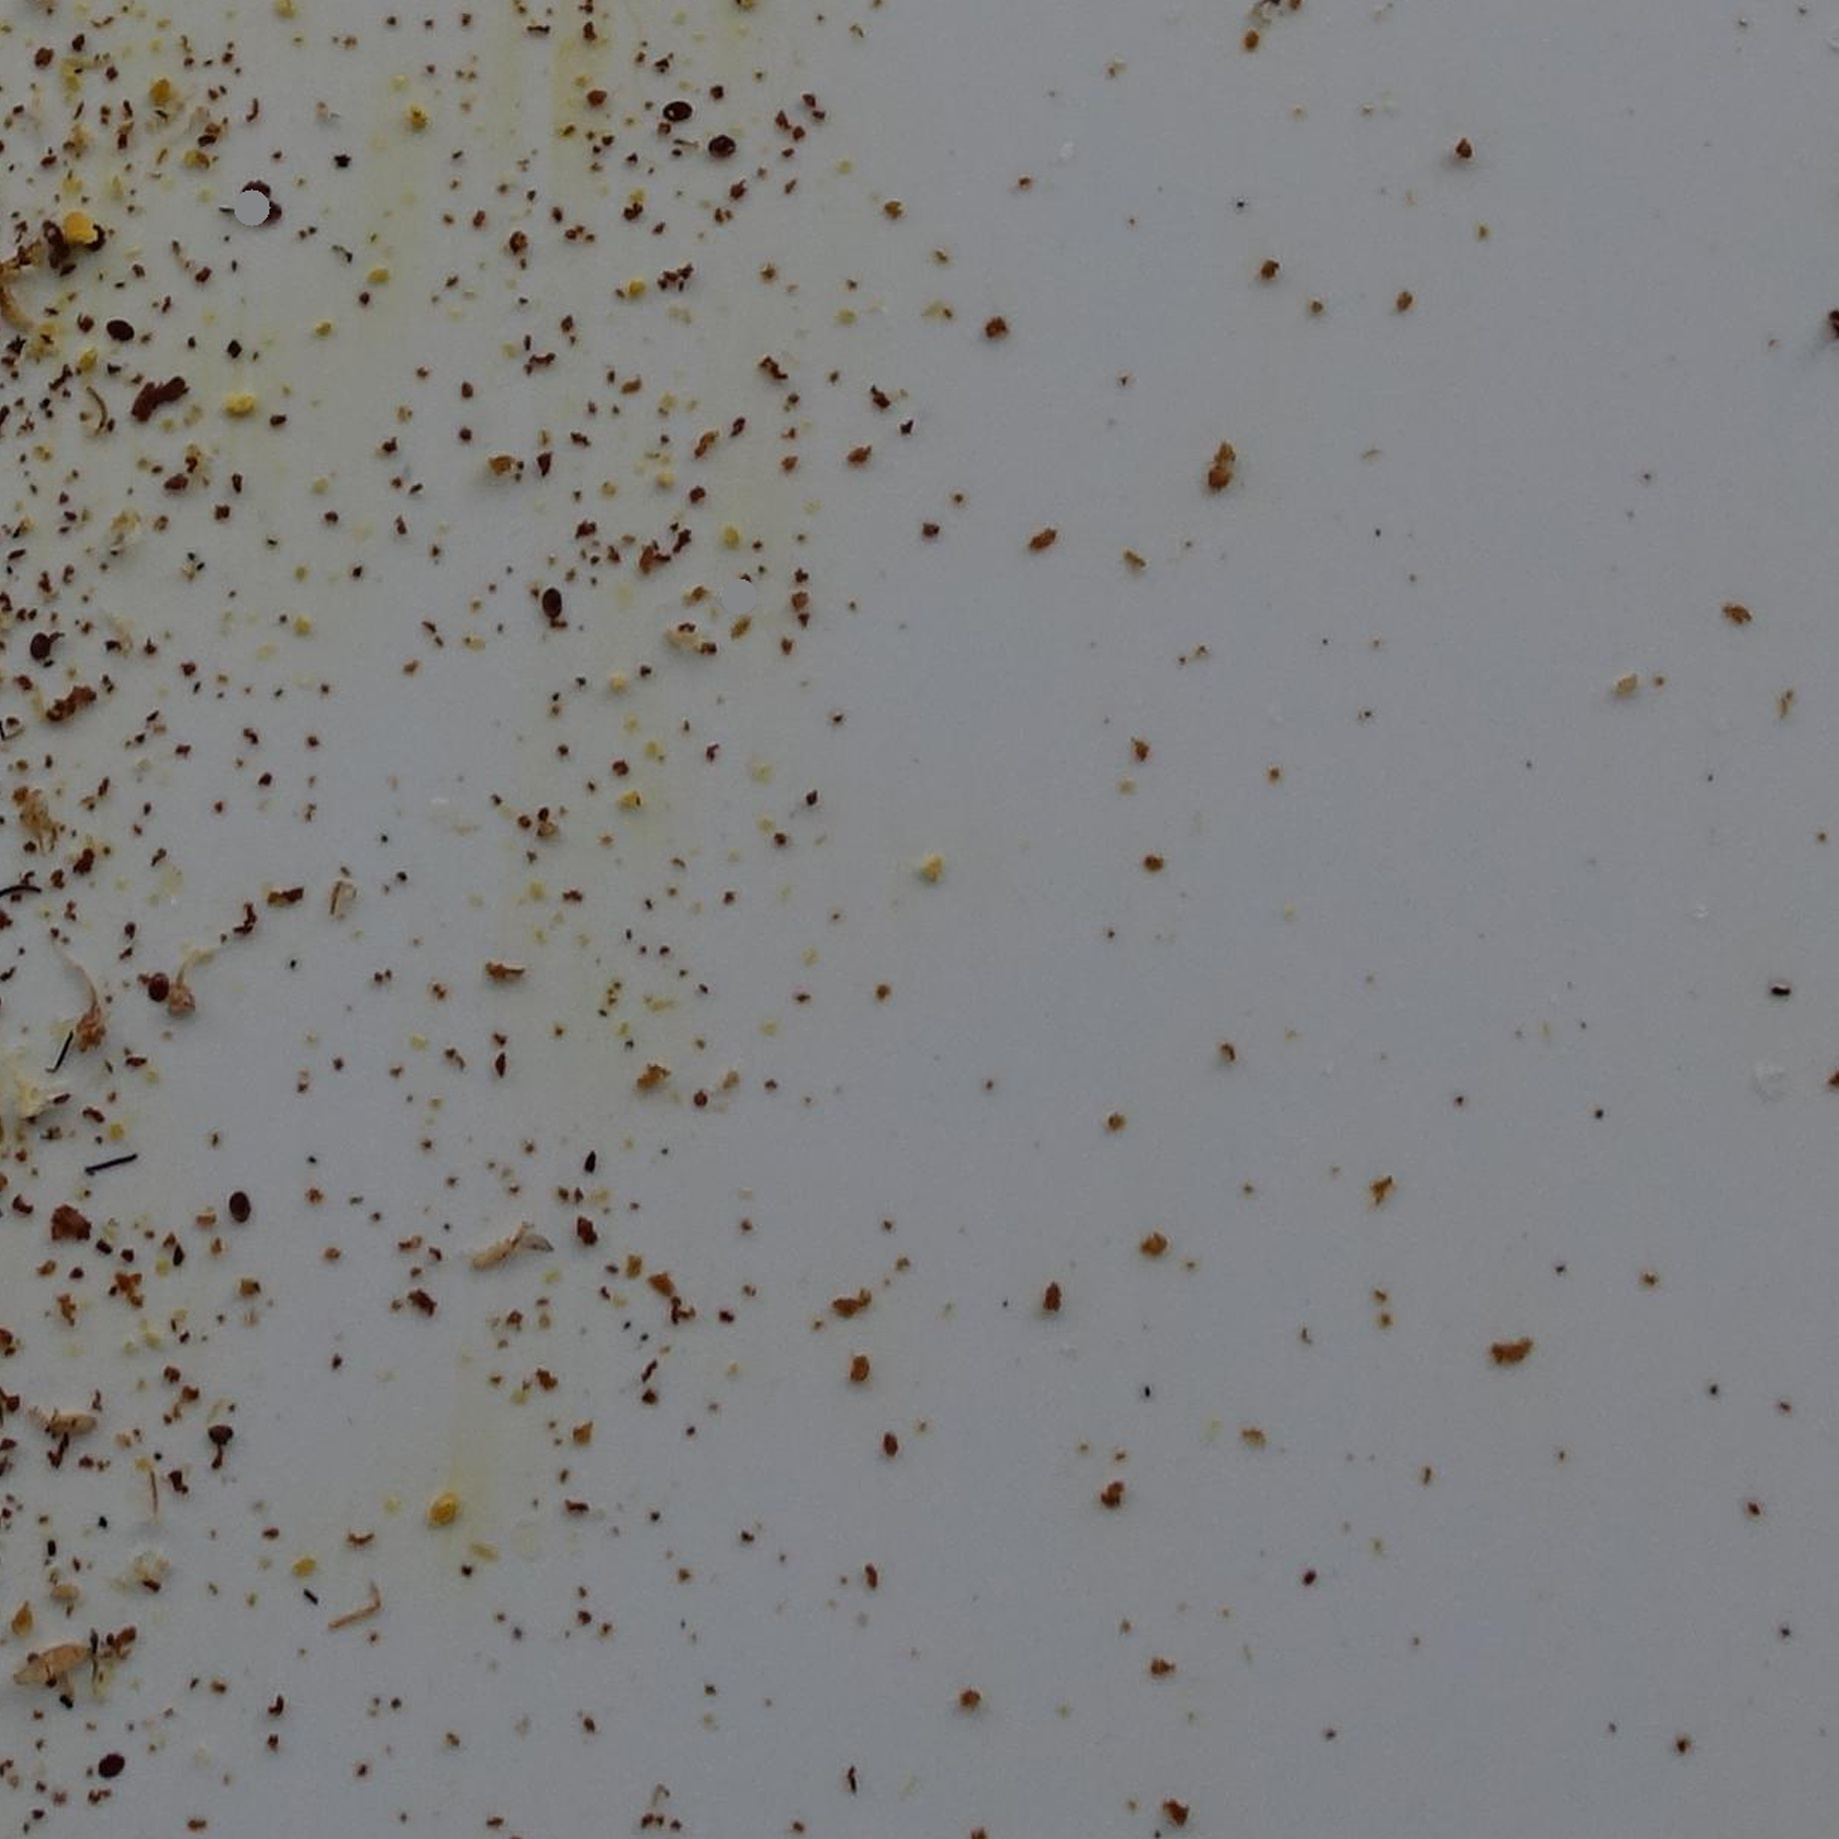Varroa: (246, 192, 290, 236), (232, 168, 276, 211), (29, 626, 56, 655), (99, 1750, 125, 1773), (541, 593, 562, 620), (664, 98, 687, 121), (109, 317, 133, 340), (711, 131, 733, 157), (231, 1191, 251, 1214), (143, 980, 163, 1000)
